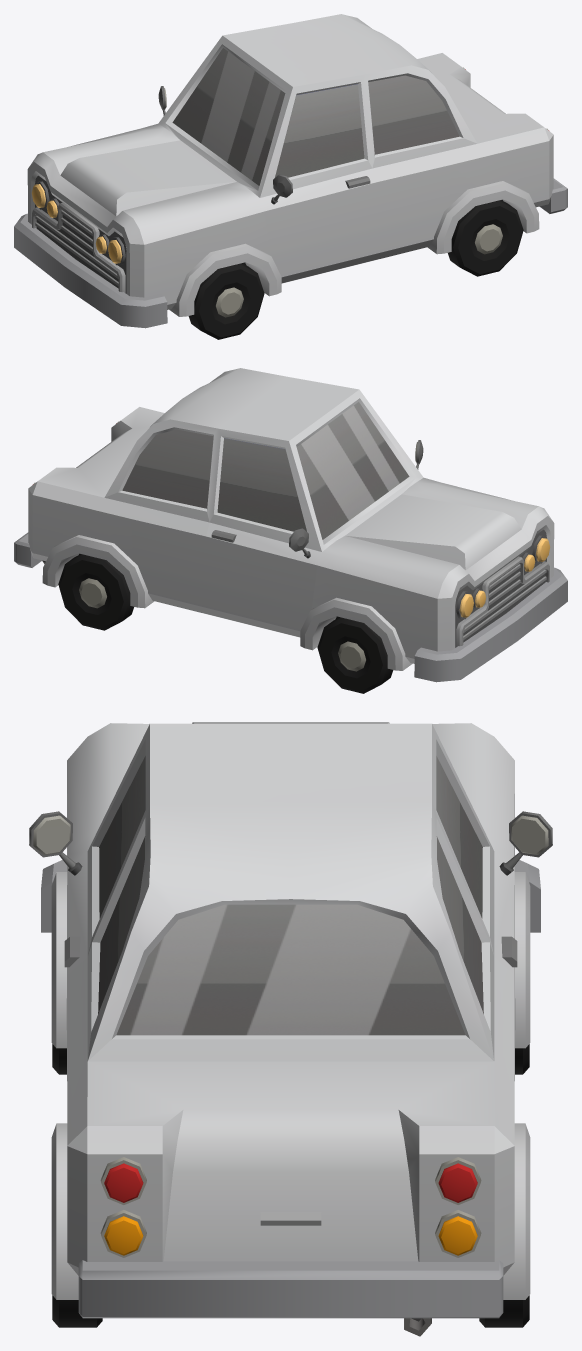
The model's file is Car_7_A.gltf.
The picture shows the model from 3 angles, top to bottom: view 1: azimuth 30°, elevation 25°; view 2: azimuth 150°, elevation 25°; view 3: azimuth 270°, elevation 25°; orthographic projection. The views are drawn at different scales.
Parts seen in each view (by area): view 1: Car_7_A, RL, FL; view 2: Car_7_A, RR, FR; view 3: Car_7_A, RL, RR.
Boxes of the visible parts, x1=… form: Car_7_A: x1=14, y1=14, x2=567, y2=328; RL: x1=448, y1=200, x2=523, y2=276; FL: x1=188, y1=263, x2=264, y2=339; Car_7_A: x1=14, y1=368, x2=567, y2=682; RR: x1=58, y1=554, x2=133, y2=630; FR: x1=317, y1=617, x2=393, y2=693; Car_7_A: x1=29, y1=722, x2=552, y2=1336; RL: x1=52, y1=1295, x2=102, y2=1327; RR: x1=479, y1=1295, x2=529, y2=1327.
Bounding box in the file's own units: 3.38 × 1.52 × 1.7.
3 materials, 3 textured.
